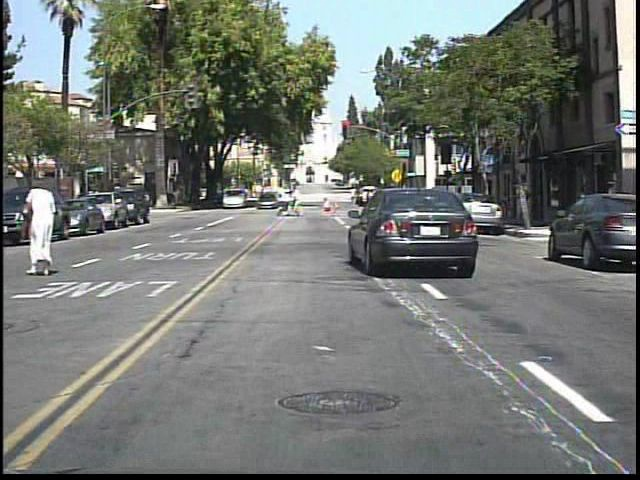person: (25, 183, 68, 277), (513, 175, 537, 228), (290, 183, 307, 221)
